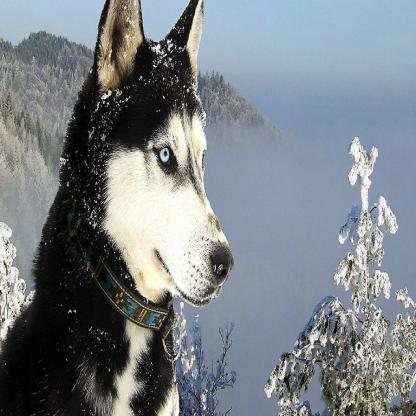husky: (0, 3, 233, 416)
